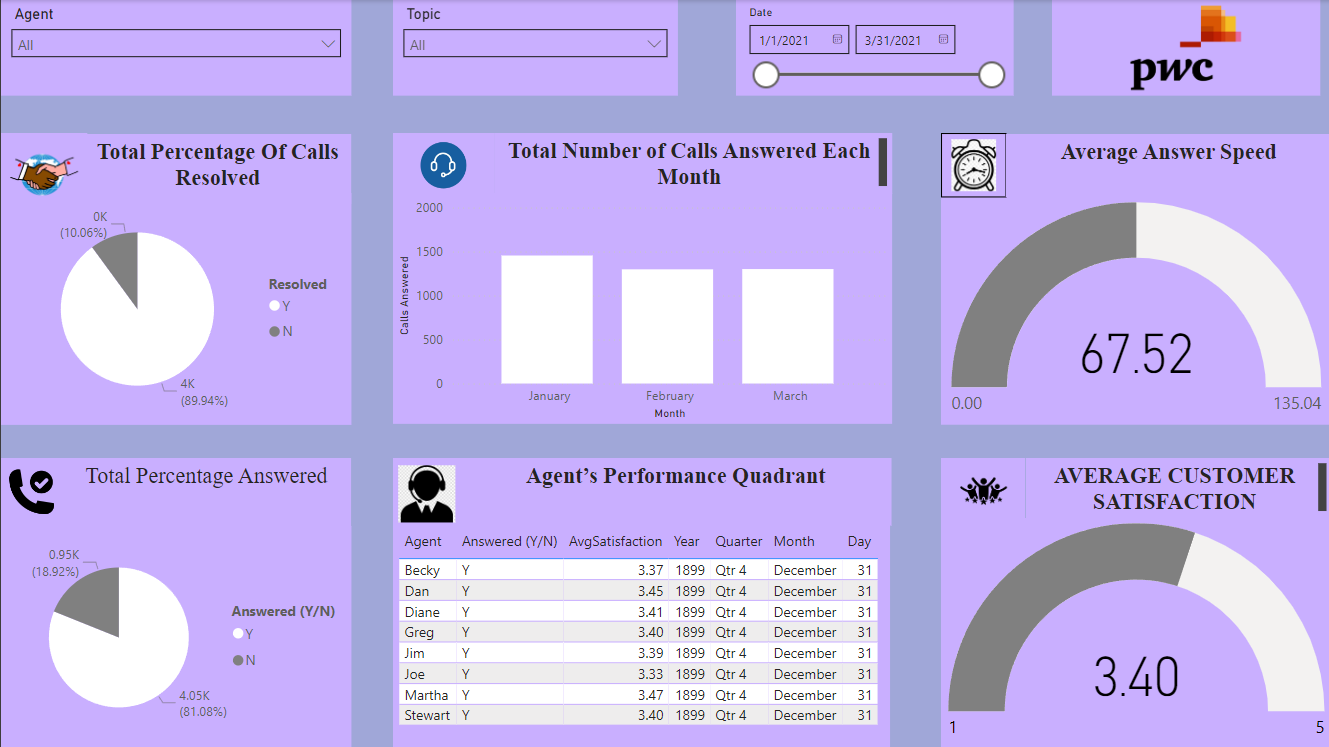

Layout of this report page (visuals, bound fields, positions):
{"tool":"powerbi","page":{"name":"Page 1","canvas":[1280,720],"ordinal":0},"visuals":[{"type":"slicer","fields":{"Values":["Sheet1.Date"]},"box":[707.1,0,266.7,91.9],"z":0},{"type":"slicer","fields":{"Values":["Sheet1.Agent"]},"box":[0,0,337.4,91.9],"z":1000},{"type":"slicer","fields":{"Values":["Sheet1.Topic"]},"box":[376.8,0,273.7,91.9],"z":2000},{"type":"gauge","title":"Average Satisfaction","fields":{"MaxValue":["Sheet1.Satisfaction rating"],"TargetValue":["Sum(Sheet1.Satisfaction rating)1"],"Y":["Sheet1.AvgSatisfaction"],"MinValue":["Sheet1.Satisfaction rating"]},"box":[904,498,375.8,222.2],"z":3000},{"type":"tableEx","title":"Agent’s Performance Quadrant","fields":{"Values":["Sheet1.Agent","Sheet1.Answered (Y/N)","Sheet1.AvgSatisfaction","Sheet1.AvgTalkDuration.Variation.Date Hierarchy.Year","Sheet1.AvgTalkDuration.Variation.Date Hierarchy.Quarter","Sheet1.AvgTalkDuration.Variation.Date Hierarchy.Month","Sheet1.AvgTalkDuration.Variation.Date Hierarchy.Day"]},"box":[376.8,505.1,477.8,215.2],"z":4000},{"type":"clusteredColumnChart","title":"Total Number of Calls Answered Each Month","fields":{"Y":["Sheet1.Calls Answered"],"Category":["Sheet1.Date.Variation.Date Hierarchy.Month"]},"box":[376.8,185.9,479.8,222.2],"z":5000},{"type":"gauge","title":"Average Answer Speed","fields":{"Y":["Sheet1.AvgSpeedOfAnswer"]},"box":[904,189.9,375.8,219.2],"z":6000},{"type":"pieChart","title":"Total Percentage Answered","fields":{"Category":["Sheet1.Answered (Y/N)"],"Y":["Sheet1.Answered (Y/N)"]},"box":[0,505.6,336.7,214.4],"z":7000},{"type":"pieChart","title":"Total Percentage Of Calls Resolved","fields":{"Category":["Sheet1.Resolved"],"Y":["Sheet1.Calls Answered"]},"box":[0,185.9,337.4,223.2],"z":8000},{"type":"image","box":[1011.1,0,257.6,91.9],"z":9000},{"type":"image","box":[0,440,58.9,65.6],"z":10000},{"type":"textbox","box":[985.9,440.4,293.9,57.6],"z":12000},{"type":"image","box":[376.8,440.4,64.6,69.7],"z":12001},{"type":"textbox","box":[441.4,440.4,415.2,64.6],"z":12002},{"type":"image","box":[904,128.3,62.6,61.6],"z":12003},{"type":"textbox","box":[966.7,129.3,313.1,60.6],"z":12004},{"type":"image","box":[376.8,128.3,98,61.6],"z":12005},{"type":"textbox","box":[474.7,128.3,381.8,57.6],"z":12006},{"type":"textbox","box":[80.8,129.3,255.6,66.7],"z":12007},{"type":"image","box":[0,128.3,82.8,82.8],"z":12008},{"type":"textbox","box":[58.9,440,277.8,65.6],"z":12009},{"type":"image","box":[904.4,440,81.1,64.4],"z":12010}]}

Visuals, with their boxes in screenshot pixels (x1, y1, x2, y2), scaled from the page's 1280x720 canvas onto the 1329x747 screenshot:
slicer - Sheet1.Date: bbox=[734, 0, 1011, 95]
slicer - Sheet1.Agent: bbox=[0, 0, 350, 95]
slicer - Sheet1.Topic: bbox=[391, 0, 675, 95]
"Average Satisfaction" gauge: bbox=[939, 517, 1328, 746]
"Agent’s Performance Quadrant" tableEx: bbox=[391, 524, 887, 746]
"Total Number of Calls Answered Each Month" clusteredColumnChart: bbox=[391, 193, 889, 423]
"Average Answer Speed" gauge: bbox=[939, 197, 1328, 424]
"Total Percentage Answered" pieChart: bbox=[0, 525, 350, 746]
"Total Percentage Of Calls Resolved" pieChart: bbox=[0, 193, 350, 424]
image: bbox=[1050, 0, 1317, 95]
image: bbox=[0, 457, 61, 525]
textbox: bbox=[1024, 457, 1328, 517]
image: bbox=[391, 457, 458, 529]
textbox: bbox=[458, 457, 889, 524]
image: bbox=[939, 133, 1004, 197]
textbox: bbox=[1004, 134, 1328, 197]
image: bbox=[391, 133, 493, 197]
textbox: bbox=[493, 133, 889, 193]
textbox: bbox=[84, 134, 349, 203]
image: bbox=[0, 133, 86, 219]
textbox: bbox=[61, 457, 350, 525]
image: bbox=[939, 457, 1023, 523]
